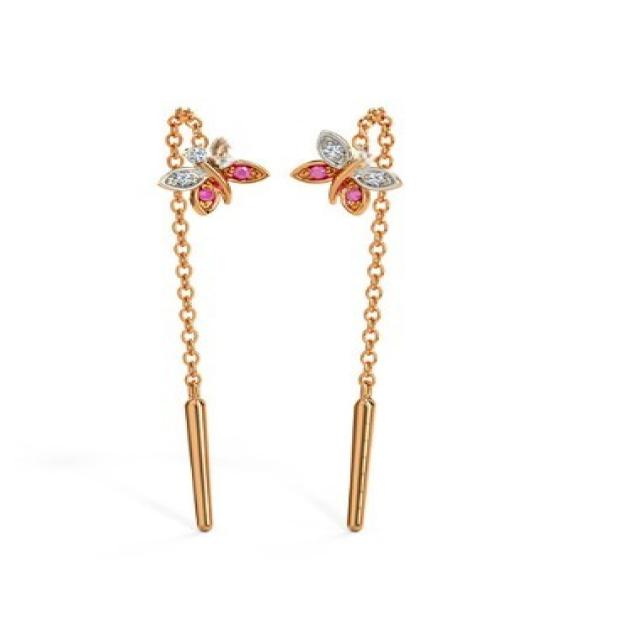missing gem: (196, 177, 217, 211), (212, 136, 231, 167)
